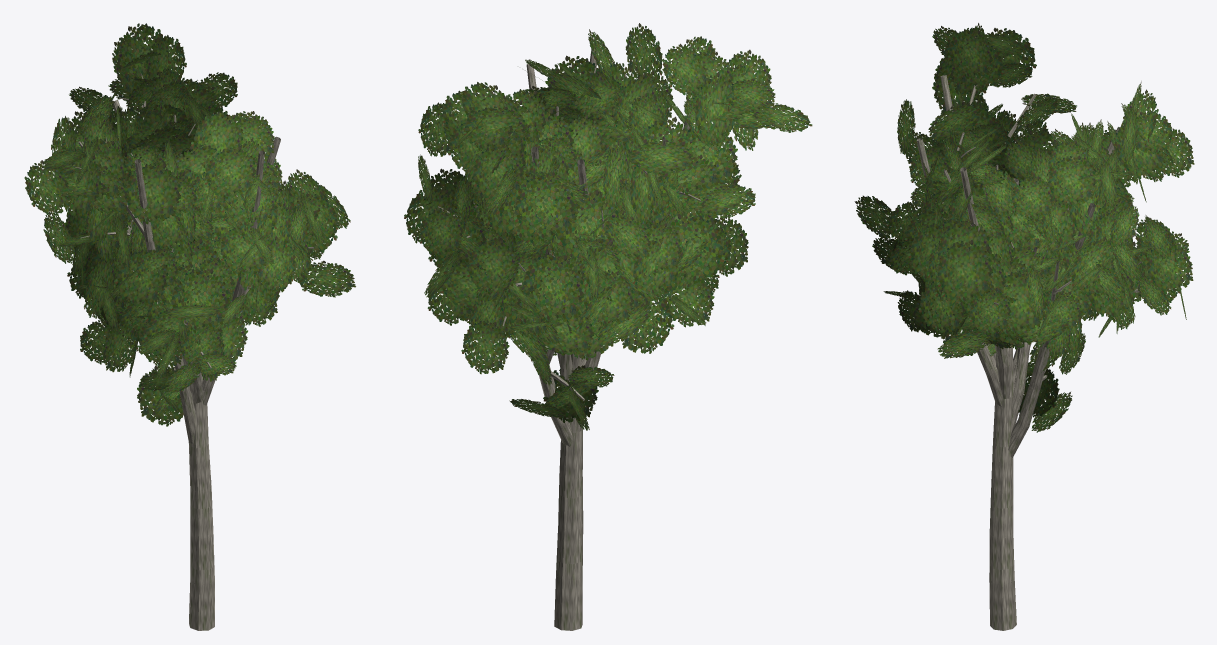
File: Tree_Beech_1.gltf
3 views of the same model, side by side, from view 1: azimuth 30°, elevation 25°; view 2: azimuth 150°, elevation 25°; view 3: azimuth 270°, elevation 25° (orthographic). The views are drawn at different scales.
Visible parts, largest first — view 1: Tree_Beech_1; view 2: Tree_Beech_1; view 3: Tree_Beech_1.
Boxes of the visible parts, x1,y1,x2,y2 form: Tree_Beech_1: [24, 23, 355, 630]; Tree_Beech_1: [404, 23, 812, 630]; Tree_Beech_1: [854, 23, 1194, 630].
Size of the model in its own units: 14 by 22.13 by 13.01.
Materials: 2 (2 with a texture image).
